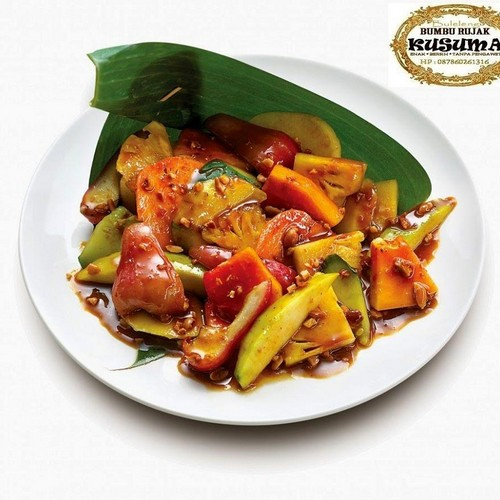rujak buleleng: (96, 133, 401, 342)
